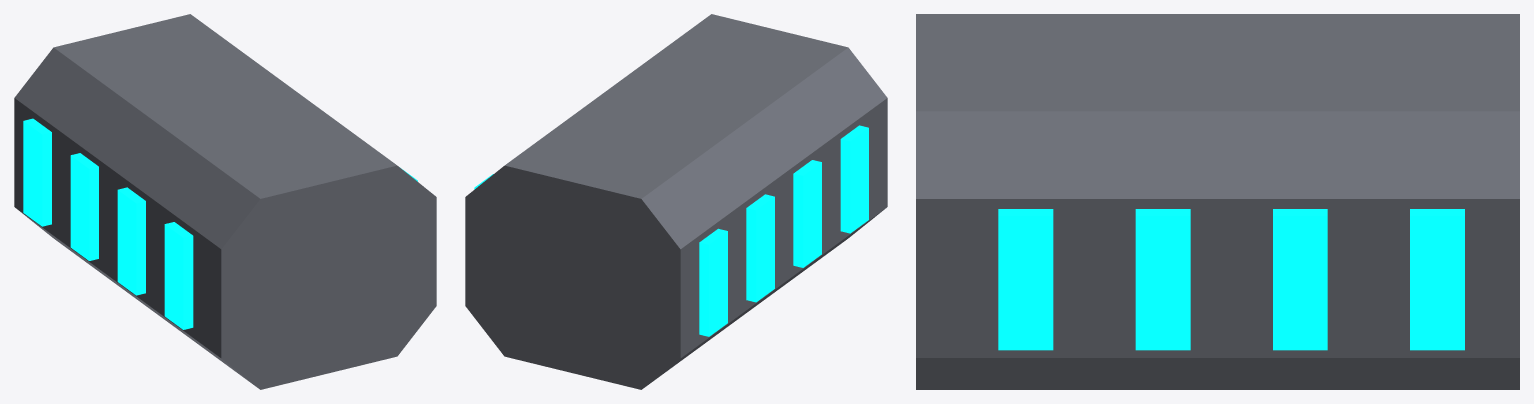
File: shotgun_pump.glb
The picture shows the model from 3 angles, left to right: view 1: azimuth 30°, elevation 25°; view 2: azimuth 150°, elevation 25°; view 3: azimuth 270°, elevation 25°; orthographic projection. The views are drawn at different scales.
Visible parts, largest first — view 1: ShotgunPump; view 2: ShotgunPump; view 3: ShotgunPump.
Part boxes in pixels (x1,y1,x2,y2): ShotgunPump: (14,14,436,389); ShotgunPump: (465,14,887,389); ShotgunPump: (916,14,1519,389).
Bounding box in the file's own units: 0.072 × 0.056 × 0.11.
